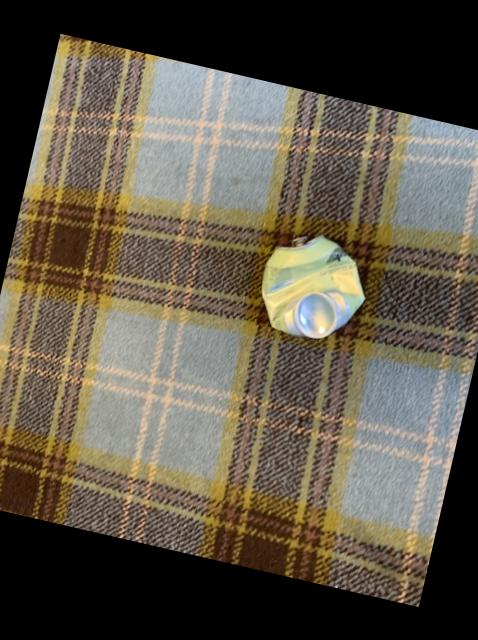metal: (262, 238, 364, 339)
